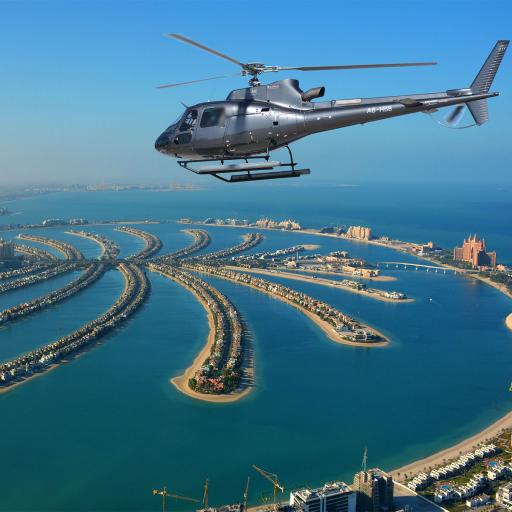helicopter: (142, 23, 512, 190)
